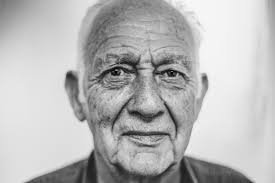noMask: (64, 1, 218, 183)
